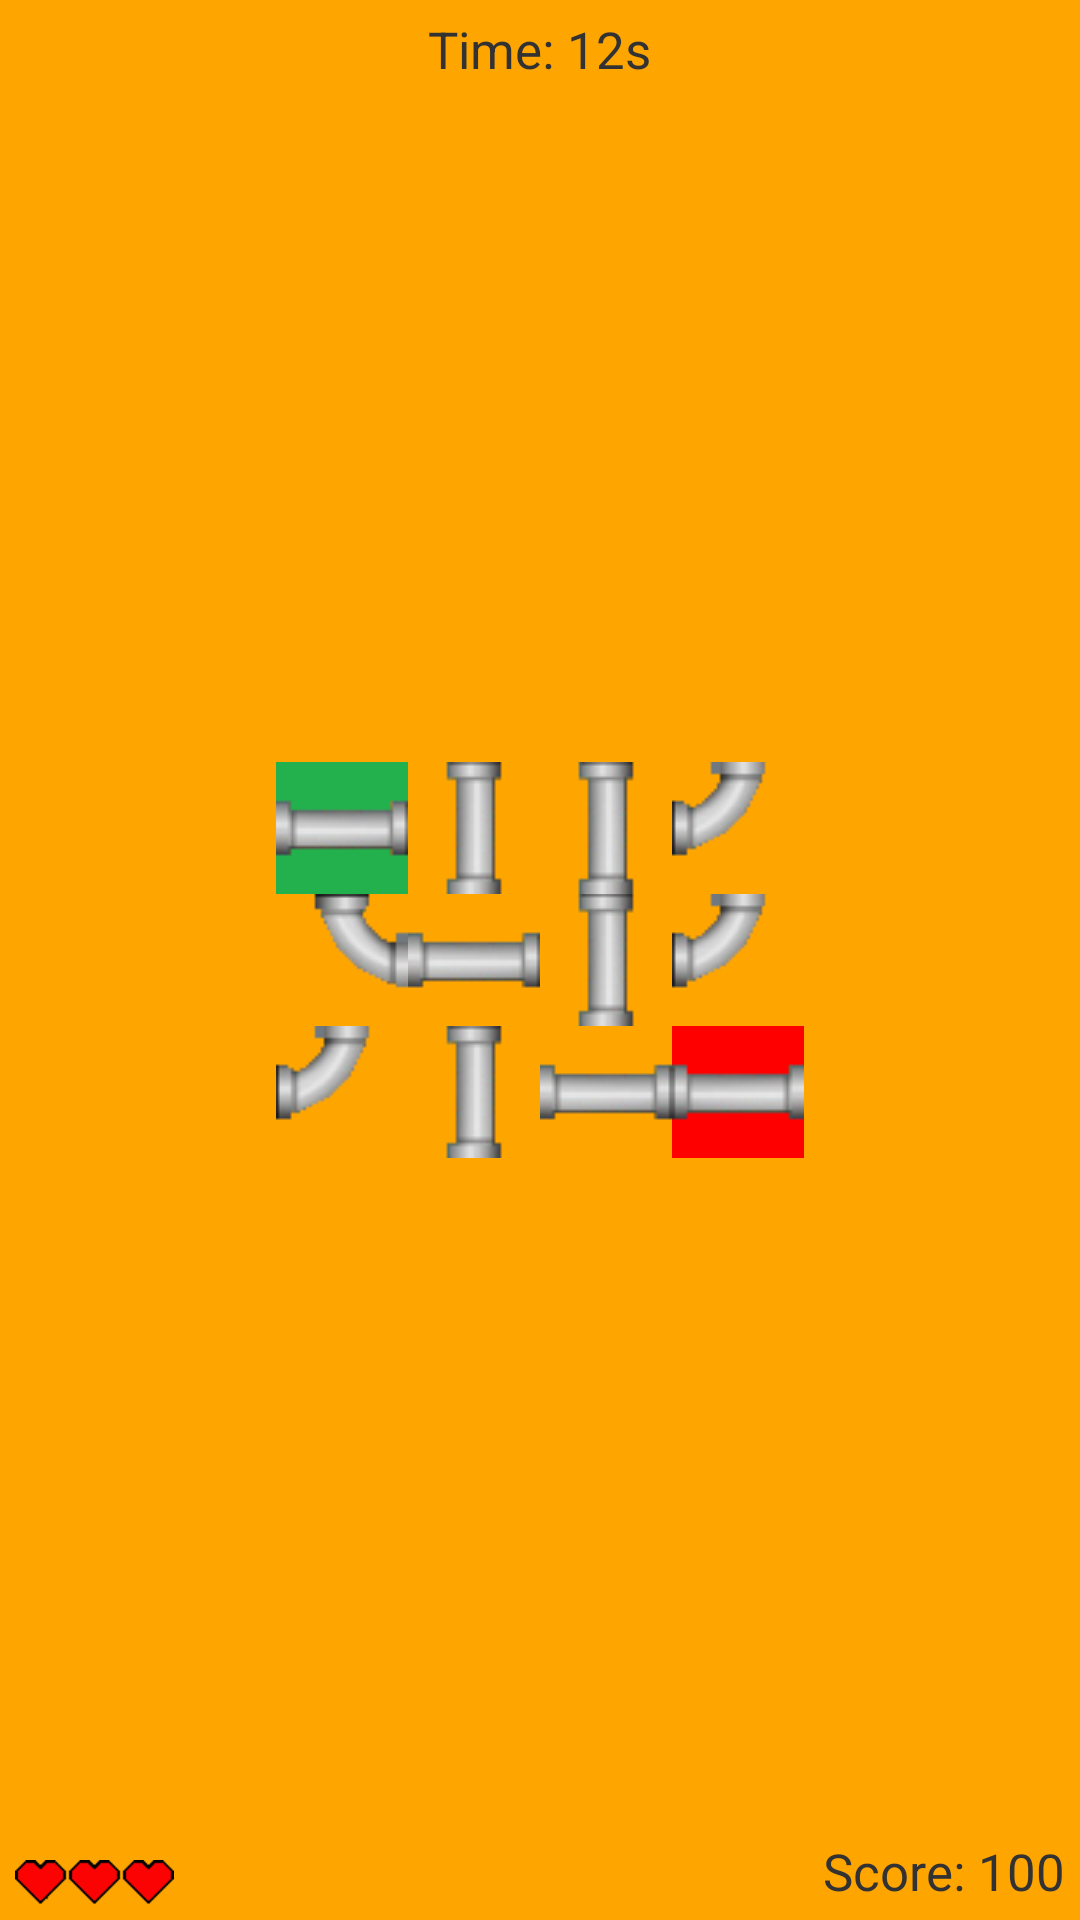

Icon bounding boxes for this 1080*1920 phone screenshot, format (x1,y1,x2,y2):
heart: (15,1860,174,1904)
pipe end: (672,1026,804,1158)
pipe start: (276,762,408,894)
